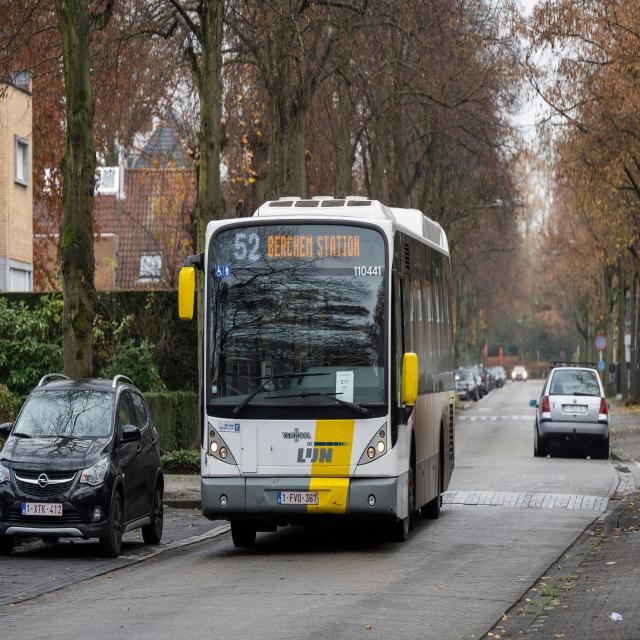bus-number: (232, 229, 263, 265)
